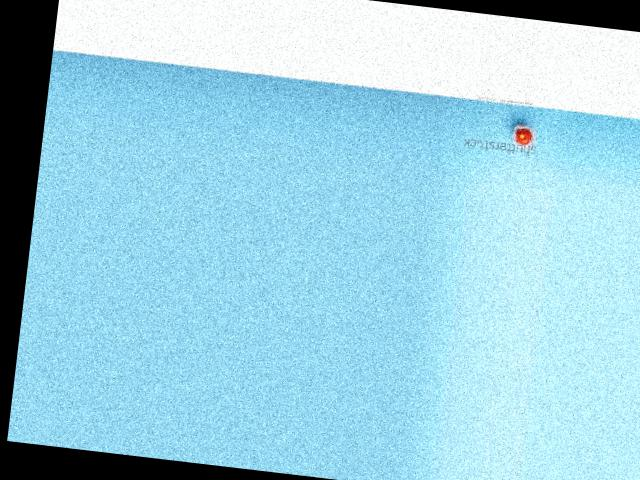tomato: (514, 127, 531, 145)
